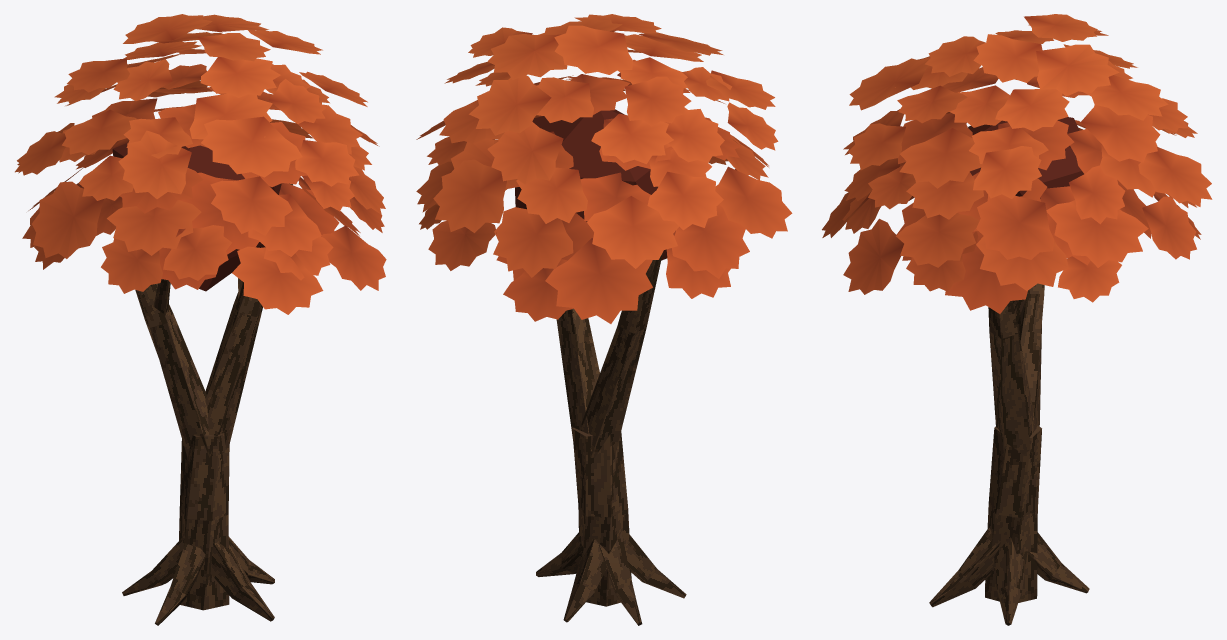
The model's file is tree_pine.glb.
The picture shows the model from 3 angles, left to right: view 1: azimuth 30°, elevation 25°; view 2: azimuth 150°, elevation 25°; view 3: azimuth 270°, elevation 25°; orthographic projection.
Parts seen in each view (by area): view 1: sway_crown.003, tree_pine; view 2: sway_crown.003, tree_pine; view 3: sway_crown.003, tree_pine.
Boxes of the visible parts, x1=… form: sway_crown.003: x1=15, y1=14, x2=386, y2=457; tree_pine: x1=122, y1=433, x2=274, y2=625; sway_crown.003: x1=416, y1=14, x2=792, y2=457; tree_pine: x1=536, y1=427, x2=686, y2=625; sway_crown.003: x1=822, y1=14, x2=1212, y2=457; tree_pine: x1=929, y1=425, x2=1089, y2=625.
Size of the model in its own units: 3.57 by 5.62 by 3.51.
3 materials, 1 textured.
